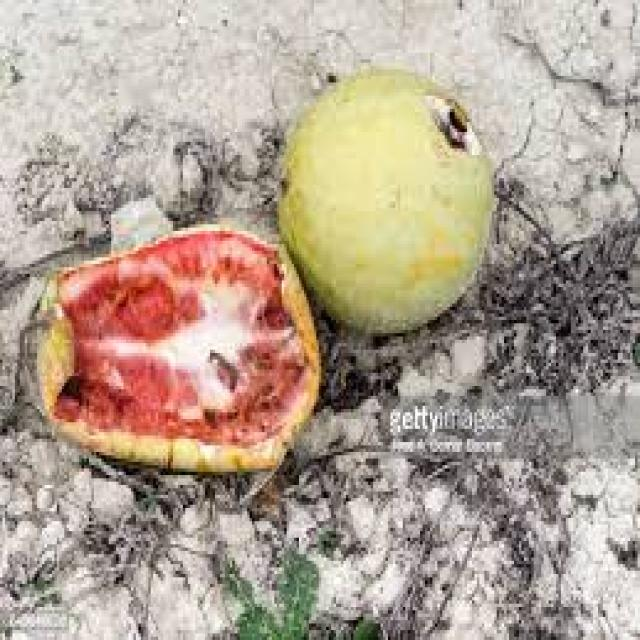food_waste: (37, 66, 492, 468)
